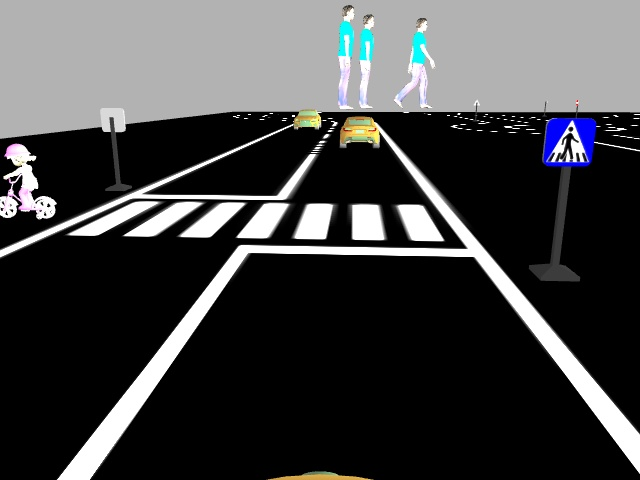Crosswalk: (542, 116, 595, 167)
Pedestrian: (1, 143, 58, 222)
